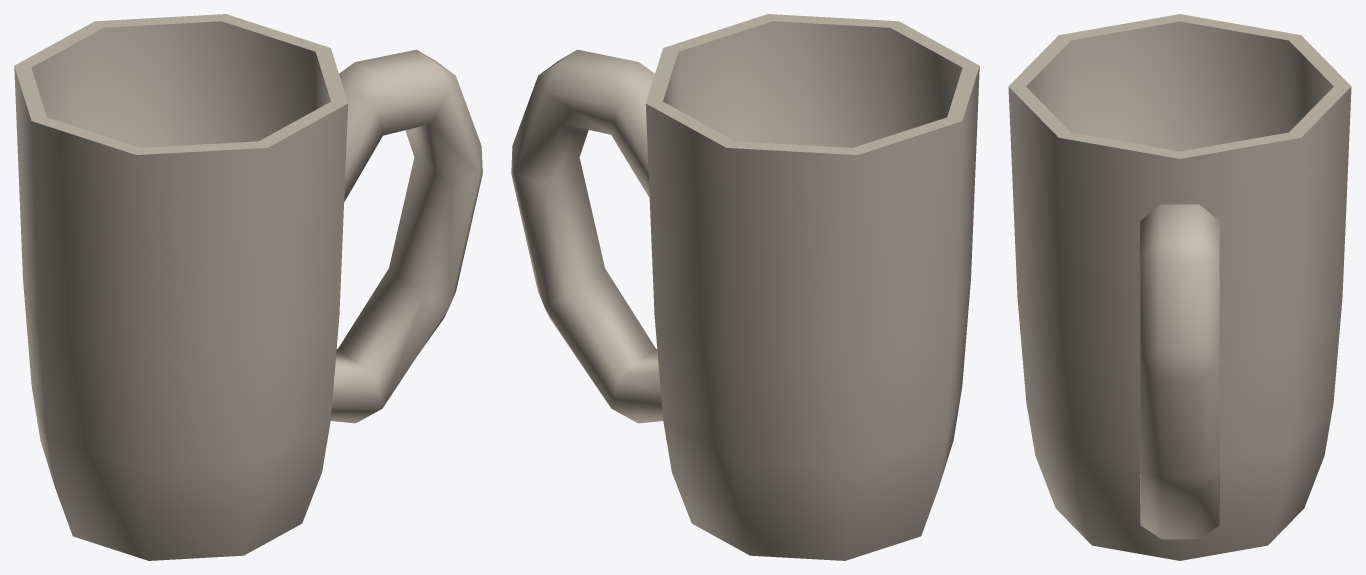
Rendered from Mug.glb.
The picture shows the model from 3 angles, left to right: view 1: azimuth 30°, elevation 25°; view 2: azimuth 150°, elevation 25°; view 3: azimuth 270°, elevation 25°; orthographic projection.
Visible parts, largest first — view 1: sercups_mug_Cylinder.114; view 2: sercups_mug_Cylinder.114; view 3: sercups_mug_Cylinder.114.
Boxes of the visible parts, left/top/right/bottom form: sercups_mug_Cylinder.114: left=14, top=14, right=482, bottom=560; sercups_mug_Cylinder.114: left=511, top=14, right=979, bottom=560; sercups_mug_Cylinder.114: left=1008, top=14, right=1351, bottom=560.
Size of the model in its own units: 2.95 by 2.74 by 2.
1 material, 1 textured.
